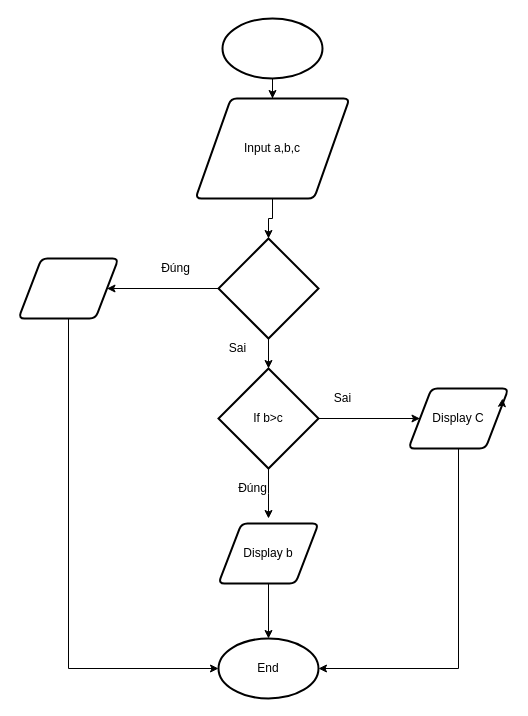
This 528x716 diagram has some shape labels left out. Each missing label, with the centre of its shape:
"Display a" belongs at point (68, 288).
"If a>b and a>c" belongs at point (268, 288).
"Start" belongs at point (272, 48).
